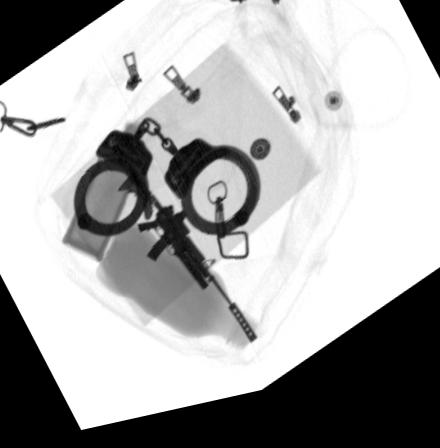Gun: (119, 170, 260, 356)
HandCuffs: (71, 117, 261, 245)
